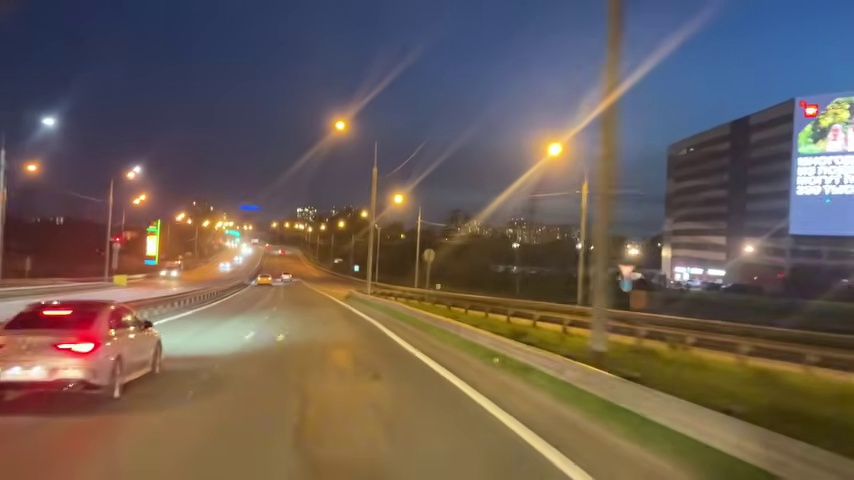acesa: (542, 139, 567, 163), (387, 189, 409, 209), (330, 116, 351, 136), (738, 239, 759, 259), (21, 159, 42, 178), (39, 113, 59, 131), (123, 164, 142, 182), (130, 192, 149, 208), (174, 210, 190, 226)
